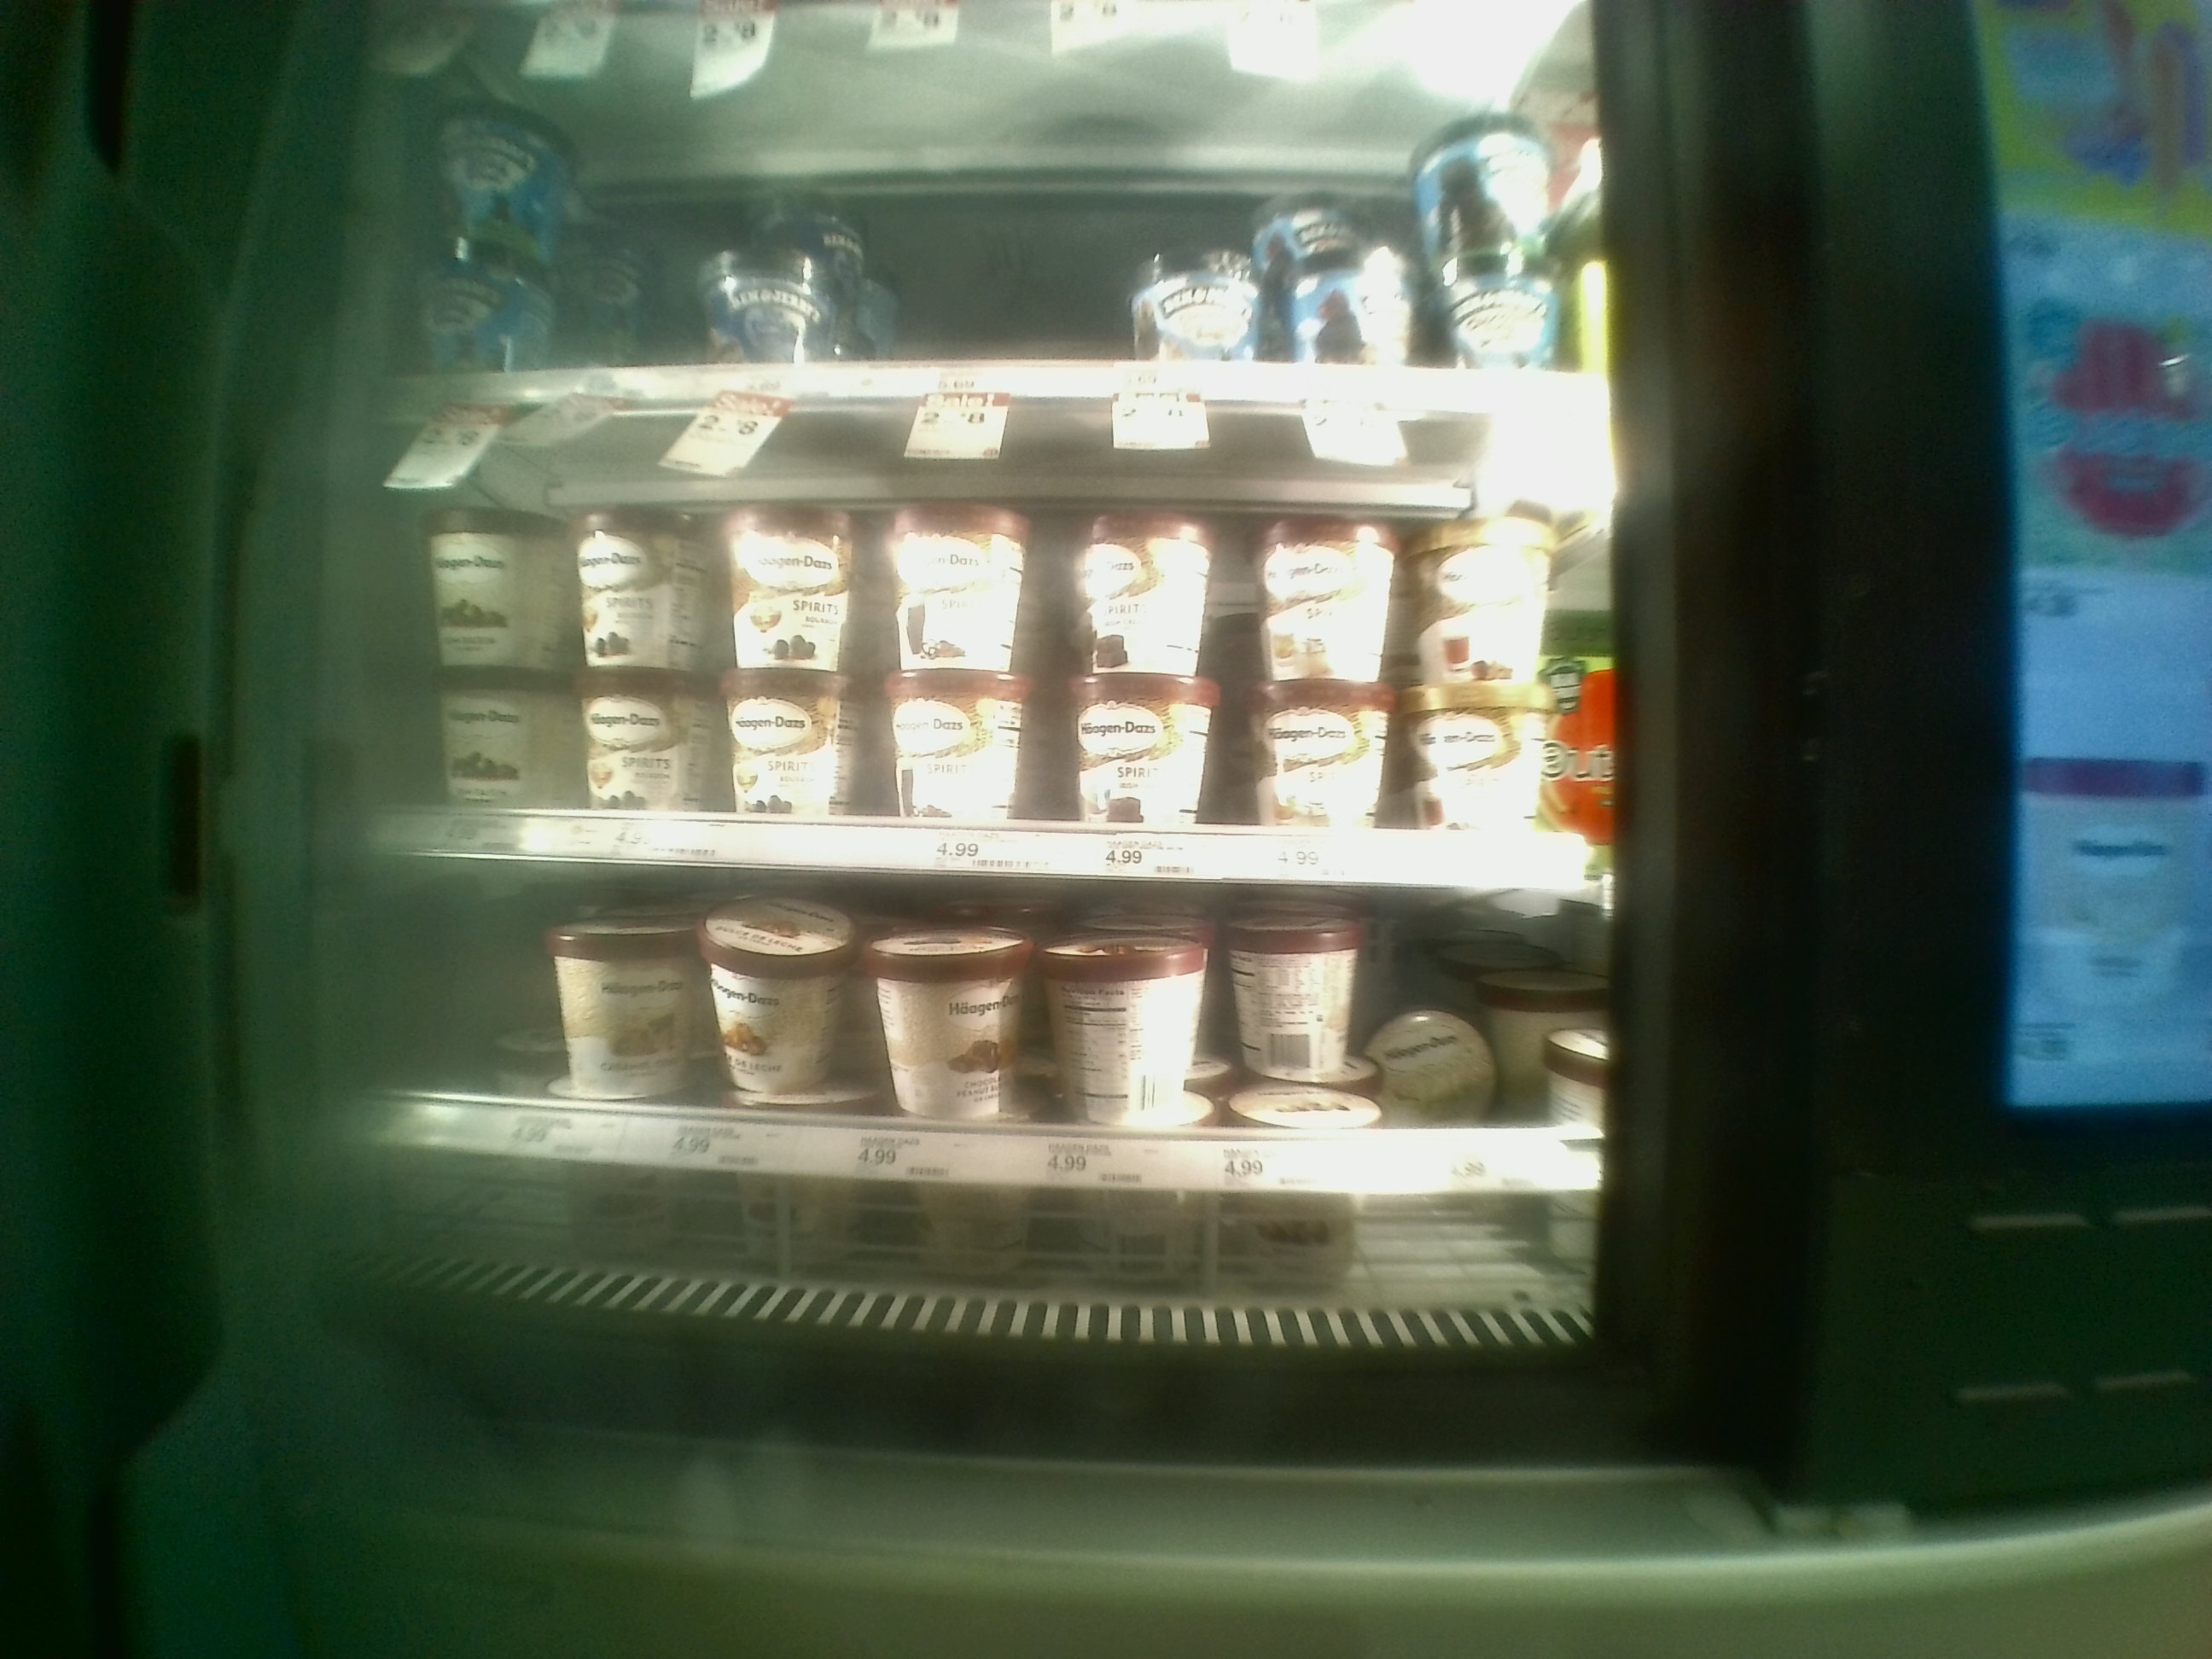shelf: (383, 413, 1604, 859), (395, 864, 1615, 1202)
